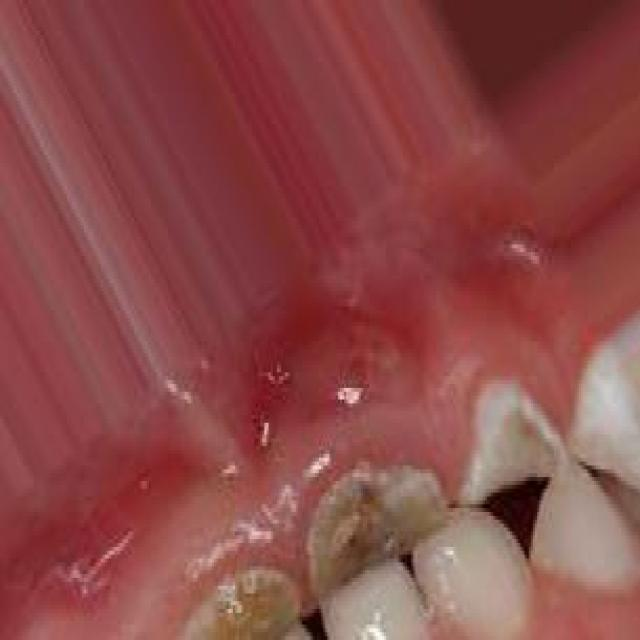caries: (294, 456, 450, 610), (473, 378, 578, 508), (201, 549, 302, 640)
